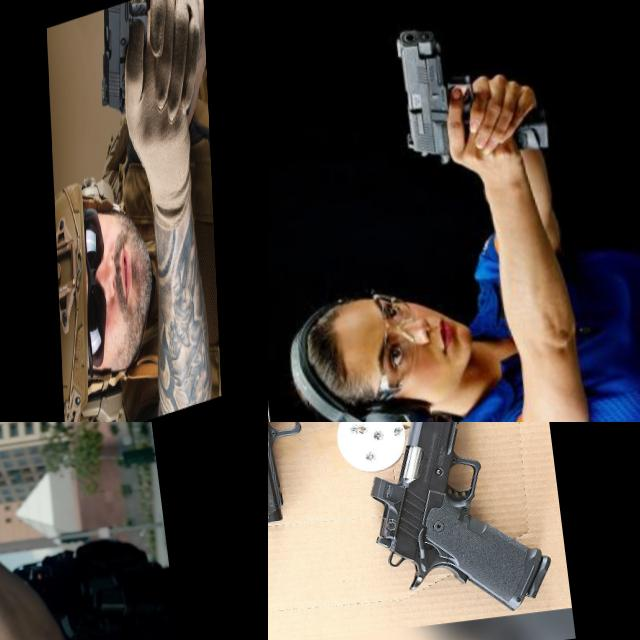handgun: (347, 422, 561, 627), (388, 11, 552, 171), (268, 422, 396, 551), (97, 0, 197, 149), (0, 422, 51, 524)
